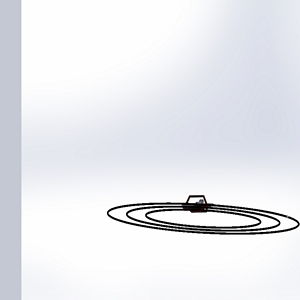circle: (98, 193, 300, 245)
submarine: (176, 194, 214, 219)
